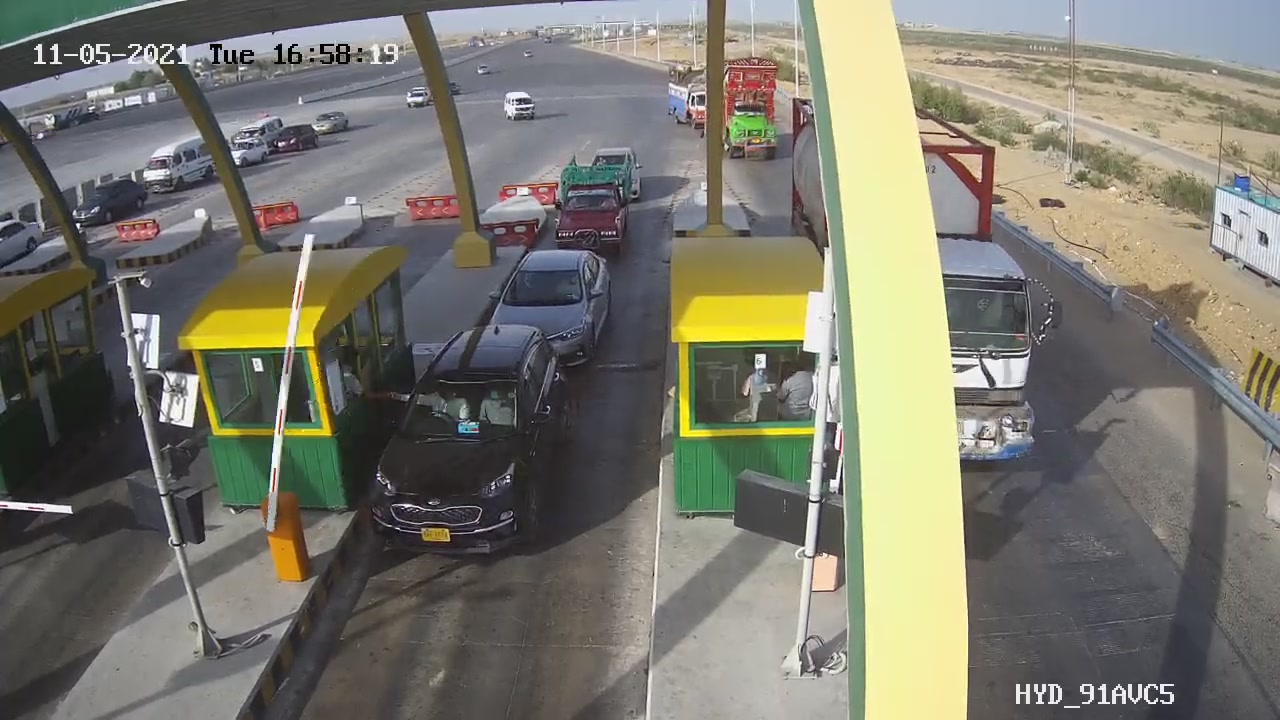F1: (355, 311, 583, 571), (467, 233, 620, 392)
